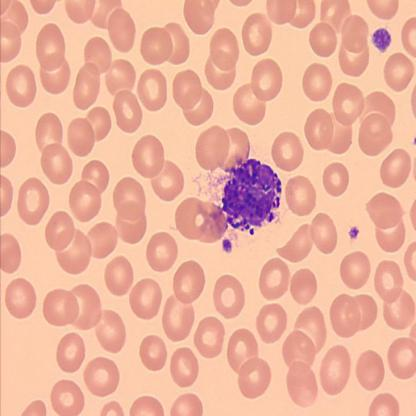Basophil: (218, 154, 282, 232)
